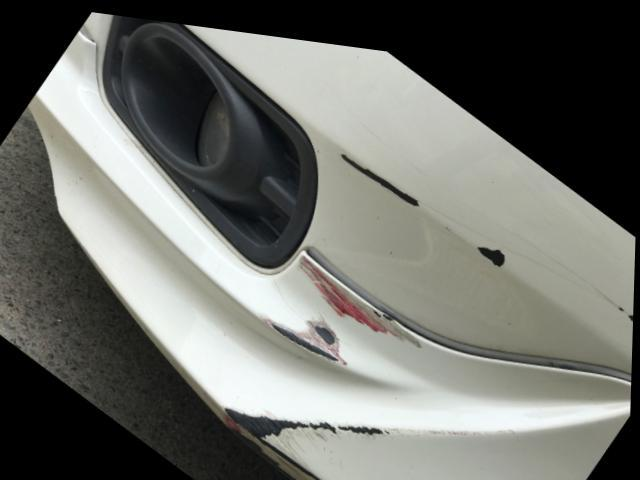scratch: (221, 398, 524, 480), (259, 244, 429, 360), (516, 220, 635, 307), (335, 140, 428, 200), (470, 228, 517, 259)
